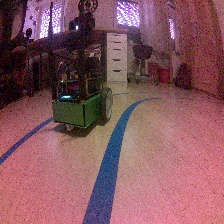rob: (51, 56, 114, 133)
